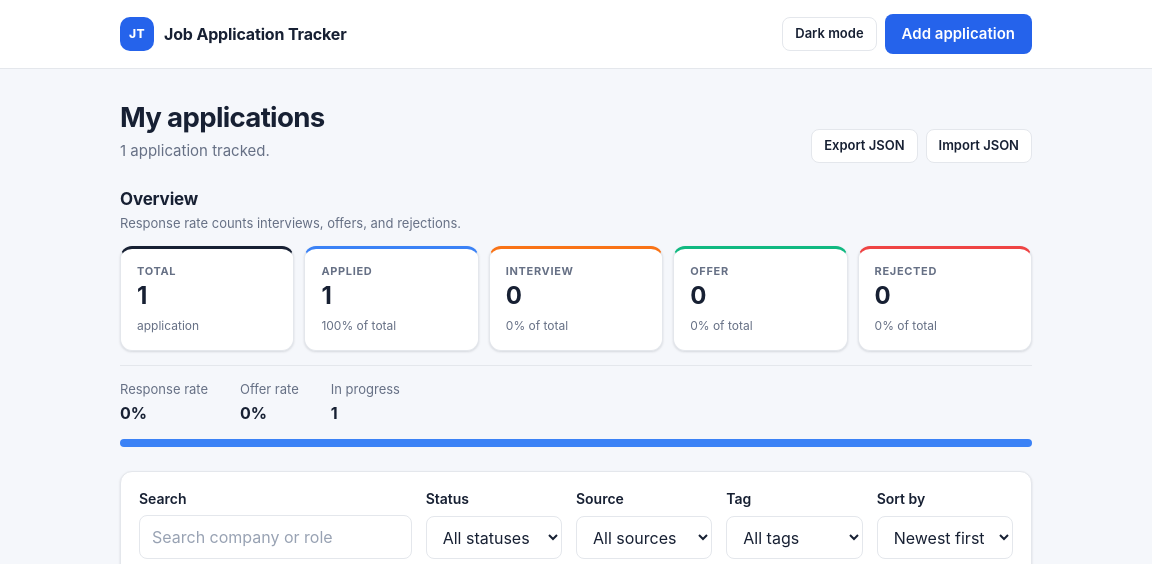
Test case: warns when company and title already exist
The width and height of the screenshot is (1152, 564).
Click the link "Add application" at (958, 34), box [885,14,1032,54]
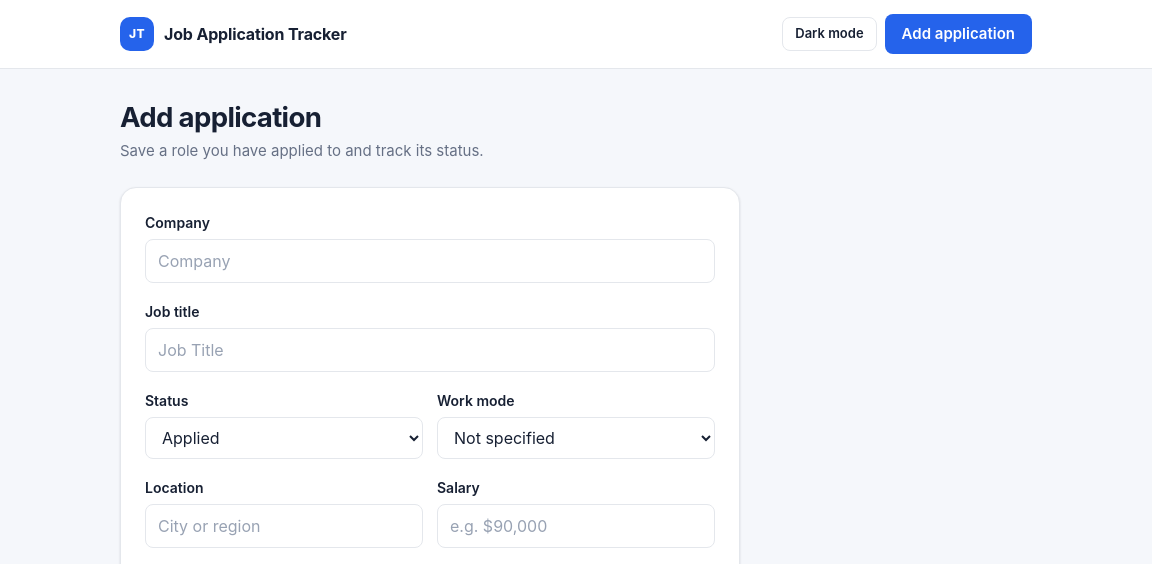
Type "acme" into the field with placeholder "Company" at (430, 261), box [145,239,715,283]
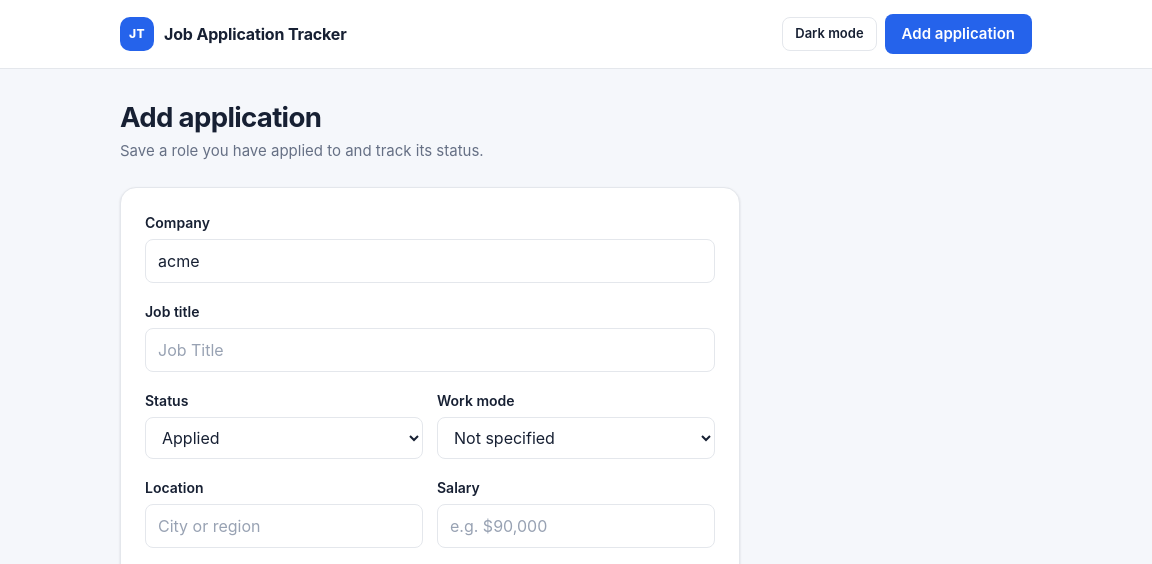
Type "engineer" into the field with placeholder "Job title" at (430, 350), box [145,328,715,372]
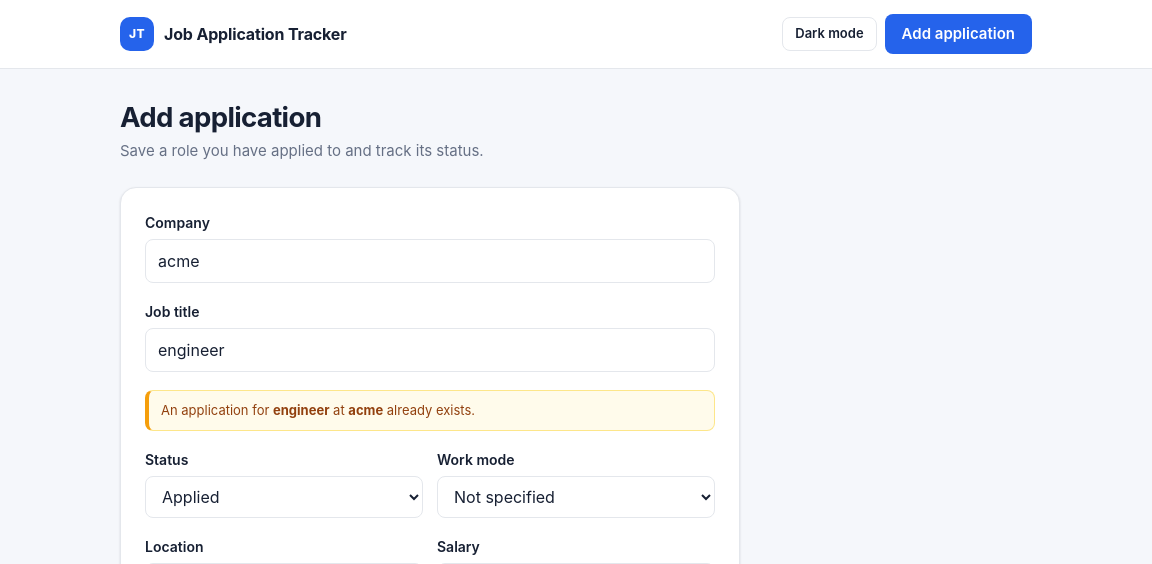
Expected: the message shows "already exists", [383,402,475,418]
